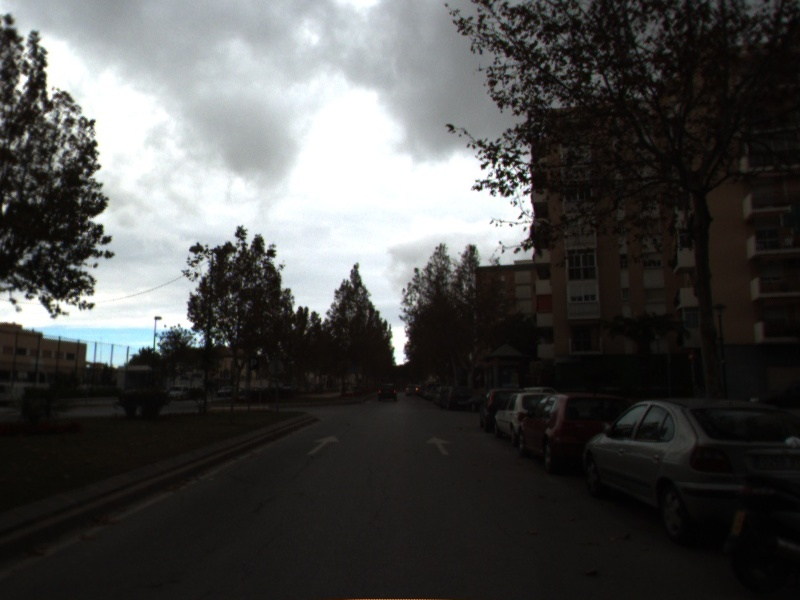STRAIGHT: (304, 433, 343, 458), (423, 433, 455, 458)
